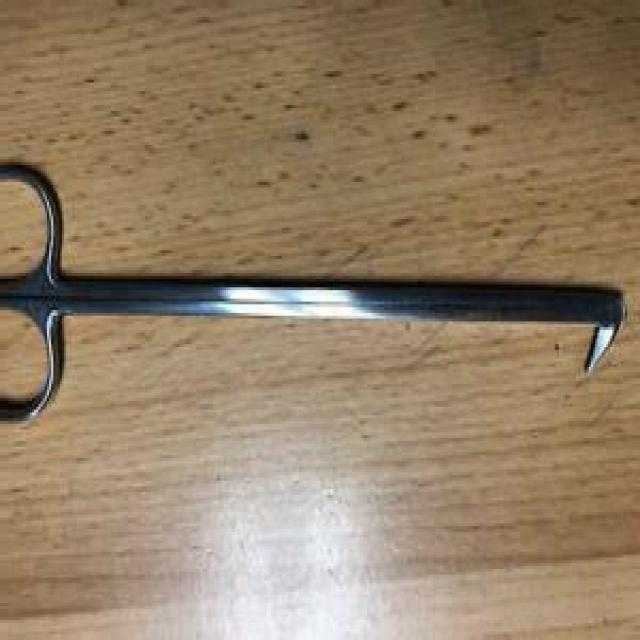Potts: (0, 160, 630, 430)
